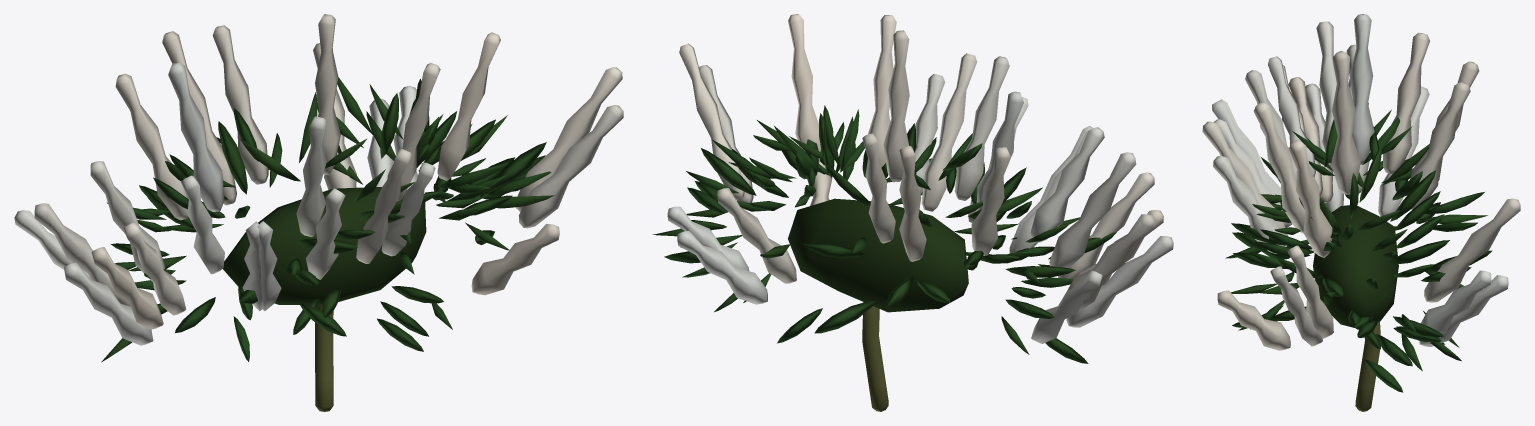
File: box_heather_white.glb
3 views of the same model, side by side, from view 1: azimuth 30°, elevation 25°; view 2: azimuth 150°, elevation 25°; view 3: azimuth 270°, elevation 25° (orthographic). The views are drawn at different scales.
Visible parts, largest first — view 1: Sammel Pflanze, Sammel Blatt, Sammel Putz; view 2: Sammel Pflanze, Sammel Blatt, Sammel Putz; view 3: Sammel Pflanze, Sammel Blatt, Sammel Putz.
Boxes of the visible parts, box(x1,y1,x2,y2) form: Sammel Pflanze: box(14, 14, 623, 362); Sammel Blatt: box(223, 187, 426, 304); Sammel Putz: box(315, 304, 333, 411); Sammel Pflanze: box(652, 14, 1173, 363); Sammel Blatt: box(788, 198, 968, 312); Sammel Putz: box(862, 302, 888, 411); Sammel Pflanze: box(1202, 14, 1520, 392); Sammel Blatt: box(1313, 205, 1398, 327); Sammel Putz: box(1355, 321, 1380, 411).
Size of the model in its own units: 0.3259 by 0.2293 by 0.1871.
